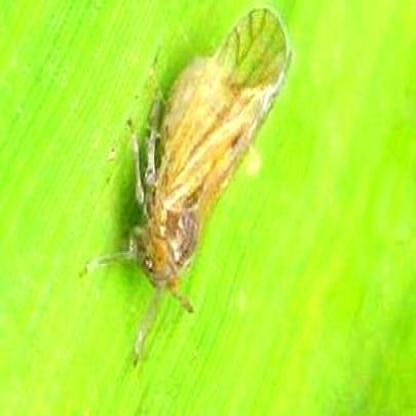brown-planthopper: (113, 4, 292, 312)
